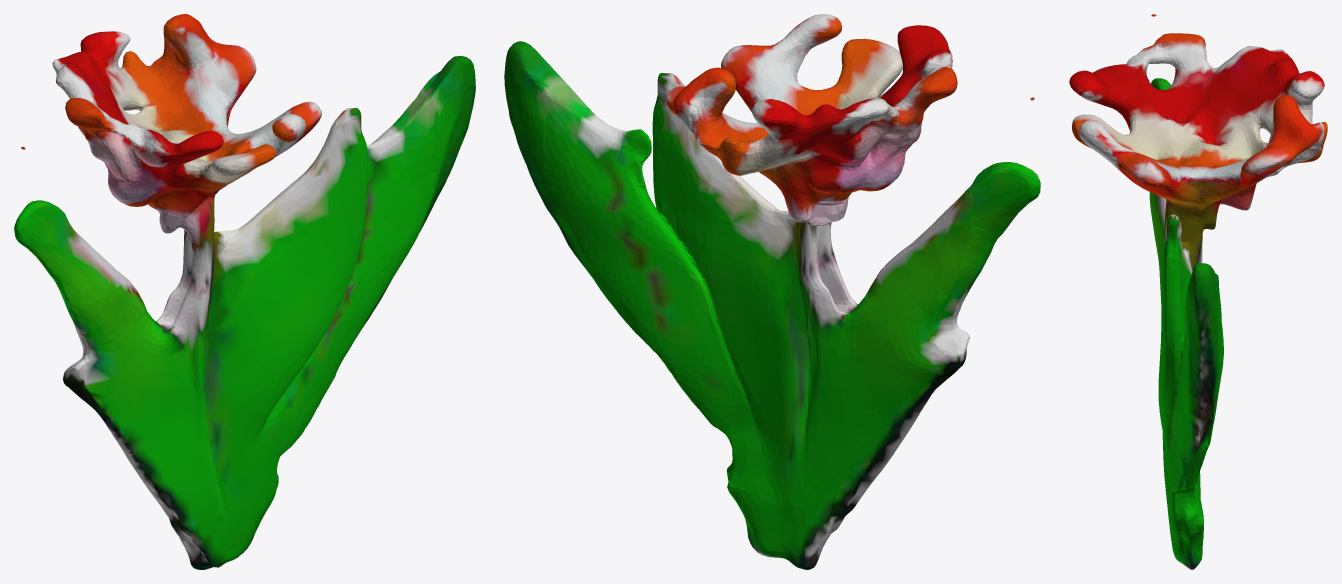
The model's file is pipeweed.glb.
The picture shows the model from 3 angles, left to right: view 1: azimuth 30°, elevation 25°; view 2: azimuth 150°, elevation 25°; view 3: azimuth 270°, elevation 25°; orthographic projection. The views are drawn at different scales.
Visible parts, largest first — view 1: geometry_0; view 2: geometry_0; view 3: geometry_0.
Part boxes in pixels (x1,y1,x2,y2): geometry_0: (14, 14, 475, 569); geometry_0: (504, 14, 1040, 569); geometry_0: (1069, 14, 1327, 569).
Bounding box in the file's own units: 0.7188 × 0.7205 × 0.3566.
